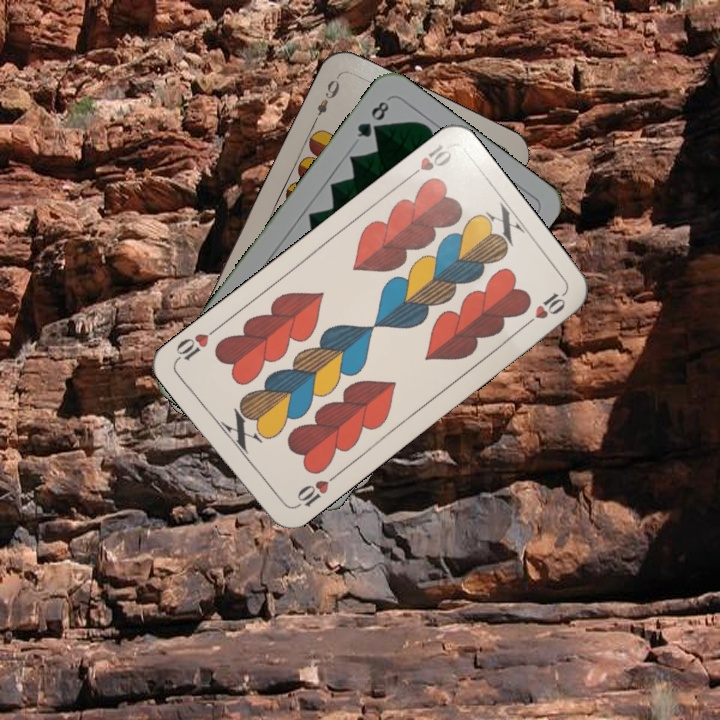E9: (309, 72, 342, 127)
G8: (353, 97, 392, 140)
H10: (401, 140, 454, 184), (289, 470, 340, 512)
